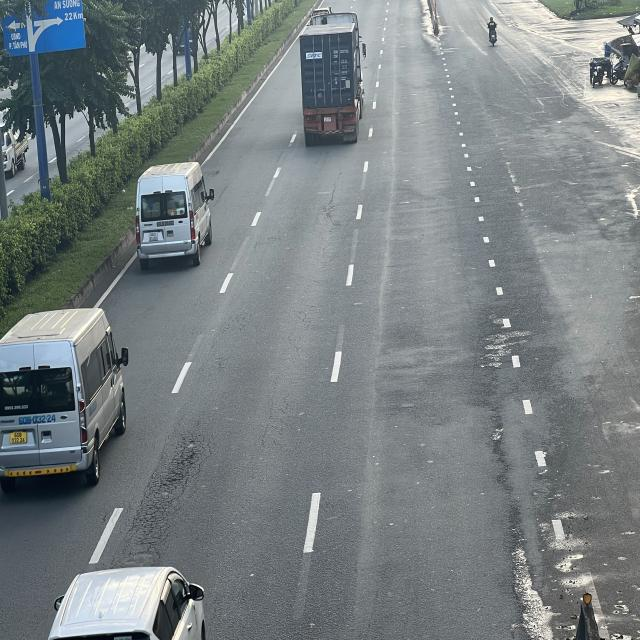container: (301, 11, 366, 141)
van: (0, 307, 127, 489), (134, 162, 213, 268)
